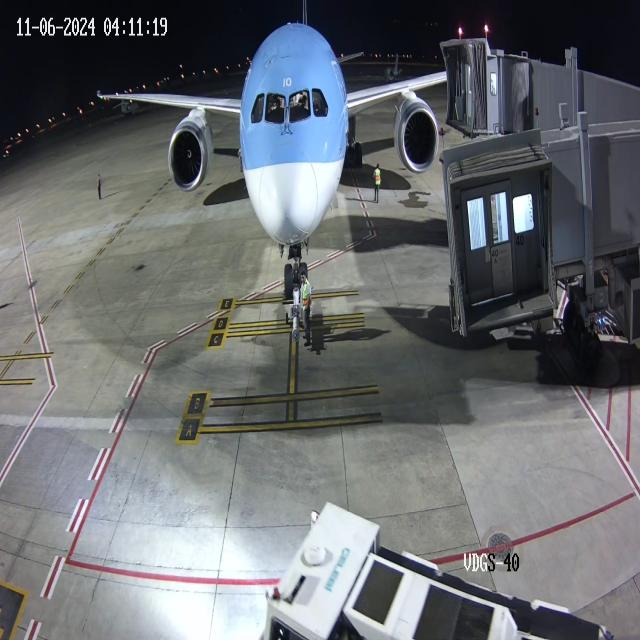bridge: (473, 29, 534, 141)
plane: (86, 0, 439, 308)
window: (249, 84, 330, 130)
